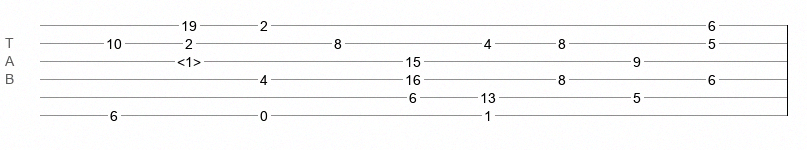0: (260, 108, 268, 118)
1: (484, 108, 492, 118)
10: (106, 36, 122, 46)
13: (480, 90, 496, 100)
15: (405, 54, 421, 64)
16: (405, 72, 421, 82)
19: (181, 18, 197, 28)
2: (185, 36, 193, 46), (260, 18, 268, 28)
4: (260, 72, 268, 82), (484, 36, 492, 46)
5: (633, 90, 641, 100), (708, 36, 716, 46)
6: (110, 108, 118, 118), (409, 90, 417, 100), (708, 18, 716, 28), (708, 72, 716, 82)
8: (334, 36, 342, 46), (558, 36, 566, 46), (558, 72, 566, 82)
9: (633, 54, 641, 64)
harmonic: (177, 54, 201, 64)
